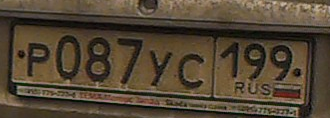character: (82, 36, 112, 80), (55, 32, 82, 79), (116, 36, 143, 83), (176, 52, 208, 89), (267, 42, 294, 83), (243, 39, 268, 82), (147, 46, 172, 88), (220, 39, 242, 80), (27, 40, 50, 77)
